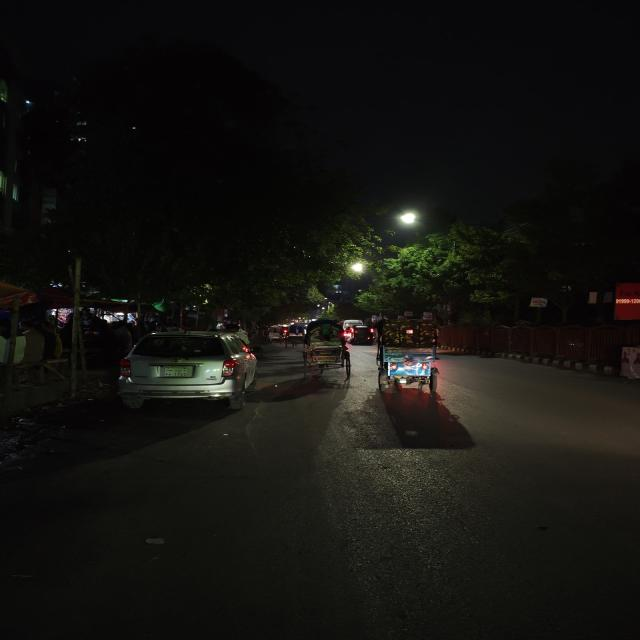car: (114, 327, 260, 411), (347, 323, 378, 345)
rickshaw: (372, 322, 451, 395), (300, 319, 355, 379), (340, 319, 380, 345), (273, 322, 300, 346), (285, 322, 305, 346), (264, 322, 286, 343)
